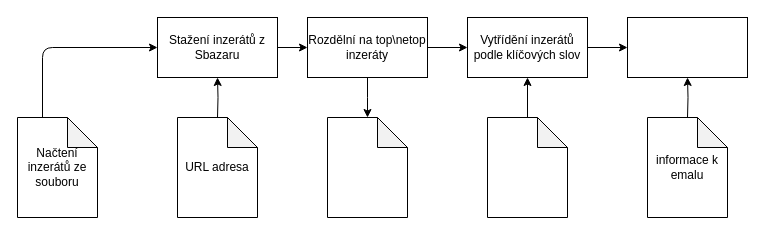
This 765x235 diagram has some shape labels left out. The shapes that lost their labels are listed below. From the top down, each one's centre as x and y in pixels, then its label:
the point at 687,47: Odeslání inzerátů na email
the point at 367,167: Uložení top\netop inzeratů
the point at 527,167: Kličov slova
